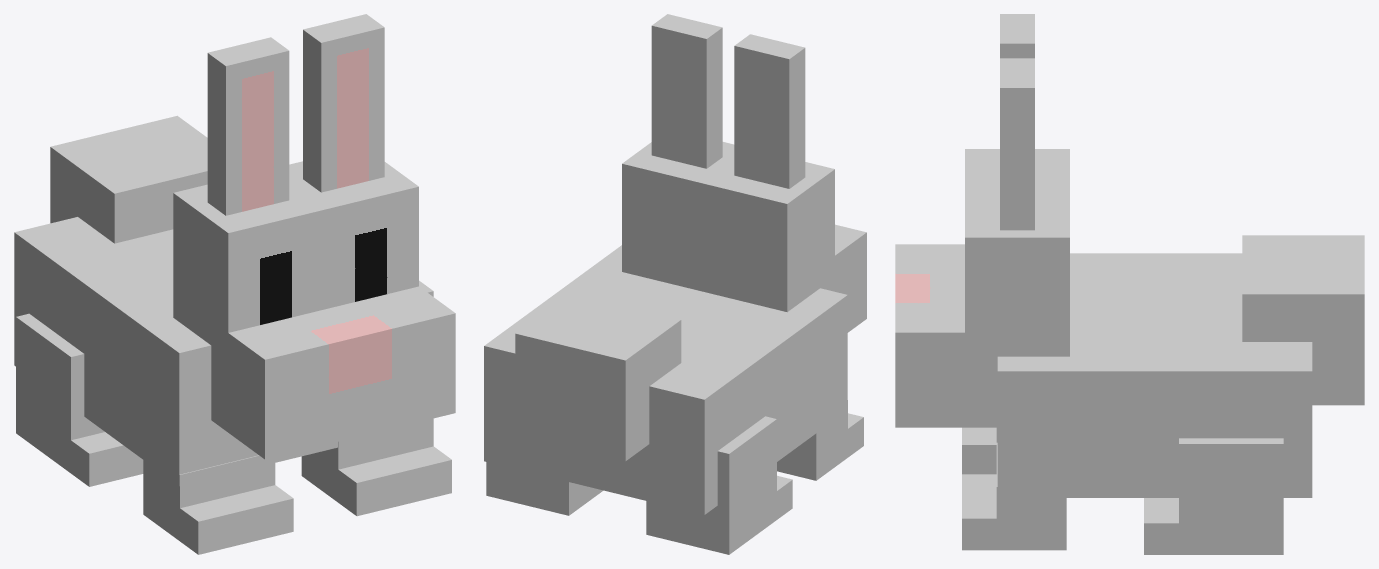
Rendered from ConejoIdle.dae.
3 views of the same model, side by side, from view 1: azimuth 30°, elevation 25°; view 2: azimuth 150°, elevation 25°; view 3: azimuth 270°, elevation 25° (orthographic). The views are drawn at different scales.
Parts seen in each view (by area): view 1: Head-local, Body-local, FootRight-local, ArmRight-local, ArmLeft-local; view 2: Body-local, Head-local, FootRight-local, FootLeft-local, ArmRight-local; view 3: Body-local, Head-local, FootLeft-local, ArmLeft-local, ArmRight-local.
Boxes of the visible parts, <box> form: Head-local: <box>173,14,455,459</box>; Body-local: <box>14,115,433,485</box>; FootRight-local: <box>16,313,143,486</box>; ArmRight-local: <box>143,455,293,554</box>; ArmLeft-local: <box>301,418,451,516</box>; Body-local: <box>484,245,847,514</box>; Head-local: <box>622,14,866,332</box>; FootRight-local: <box>646,416,792,554</box>; FootLeft-local: <box>486,462,603,515</box>; ArmRight-local: <box>777,400,863,480</box>; Body-local: <box>997,235,1364,497</box>; Head-local: <box>895,14,1069,427</box>; FootLeft-local: <box>1144,438,1283,554</box>; ArmLeft-local: <box>962,442,1066,550</box>; ArmRight-local: <box>962,427,997,474</box>.
Size of the model in its own units: 17.62 by 27.81 by 26.87.
Materials: 4 (4 with a texture image).
